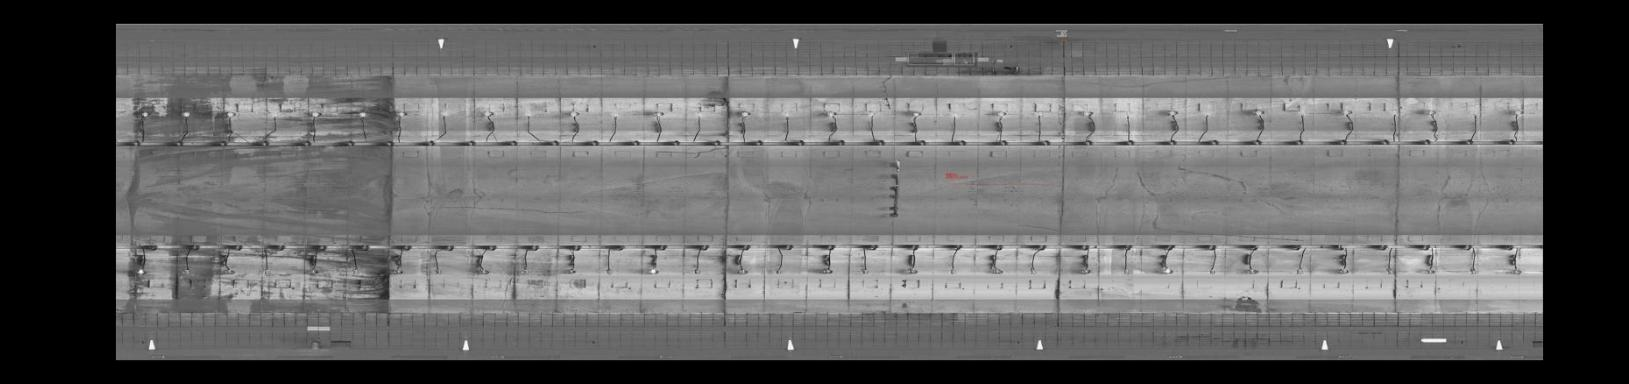light: (222, 106, 241, 121), (984, 264, 1004, 278), (1341, 105, 1358, 120), (1165, 106, 1182, 120), (1120, 107, 1138, 121), (481, 107, 500, 120), (266, 107, 283, 121), (1031, 108, 1049, 120), (308, 108, 326, 120), (388, 265, 406, 277), (1253, 105, 1269, 119), (177, 266, 198, 276), (993, 107, 1013, 118), (942, 265, 959, 278), (1083, 107, 1100, 119), (134, 265, 152, 277), (902, 266, 923, 276), (908, 108, 927, 119), (737, 108, 755, 119), (304, 266, 323, 277), (1157, 265, 1176, 276), (1388, 107, 1403, 121), (1425, 106, 1441, 119), (949, 108, 964, 121), (565, 107, 581, 120), (178, 107, 193, 120), (1022, 264, 1038, 277), (563, 265, 580, 277), (689, 265, 705, 277), (259, 266, 276, 277), (472, 266, 489, 277), (1383, 264, 1397, 277), (1296, 107, 1311, 119), (692, 107, 707, 119), (395, 108, 410, 120), (220, 265, 237, 276), (855, 266, 872, 277), (1244, 266, 1261, 276), (1290, 266, 1308, 276), (1468, 107, 1481, 120), (1202, 107, 1217, 119), (137, 108, 152, 120), (438, 107, 454, 118), (1204, 265, 1220, 276), (1508, 266, 1524, 277), (823, 109, 842, 118), (820, 266, 836, 276), (518, 266, 532, 278), (1512, 107, 1526, 118), (523, 108, 537, 119), (1466, 266, 1480, 277), (600, 266, 616, 276), (1078, 266, 1094, 276), (355, 110, 372, 119), (737, 266, 751, 276), (1336, 266, 1351, 276), (1423, 266, 1438, 276), (428, 268, 446, 276), (608, 111, 623, 120), (1118, 267, 1133, 276), (348, 267, 362, 277), (645, 267, 660, 276), (867, 107, 878, 119), (771, 269, 786, 277), (652, 108, 666, 117), (782, 110, 794, 120)
